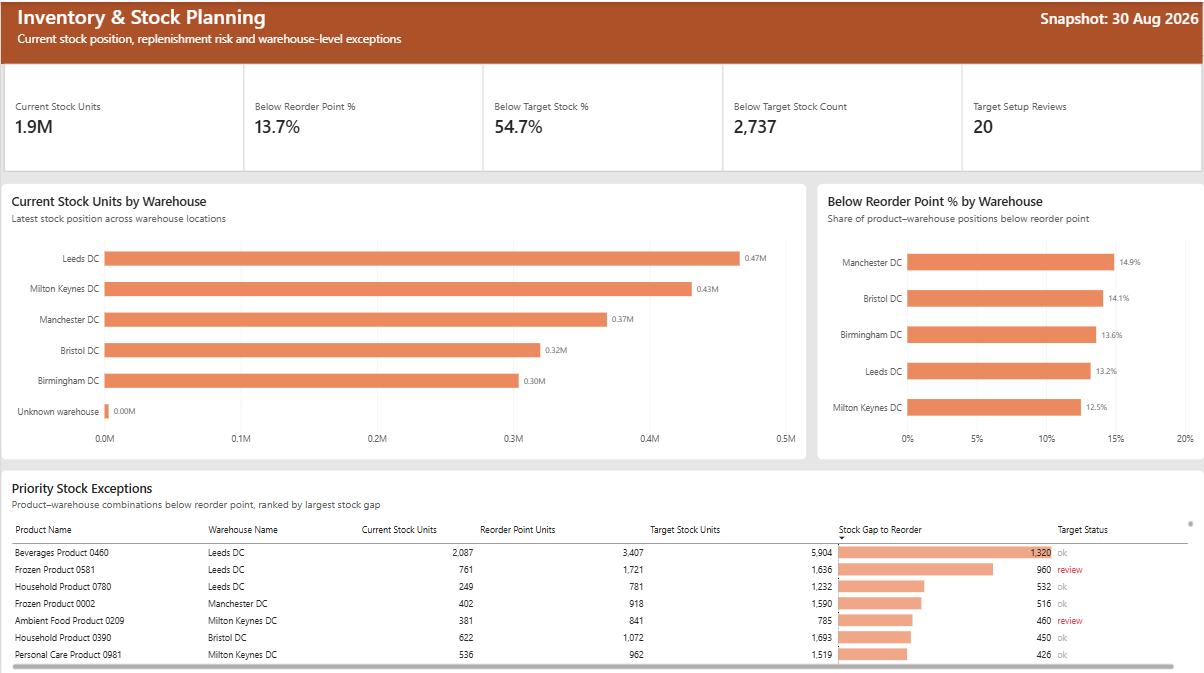

The dashboard page shown, as its layout file describes it:
{"tool":"powerbi","page":{"name":"Inventory Overview","canvas":[1920,1080],"ordinal":0},"visuals":[{"type":"shape","box":[0,0,1911.3,98.9],"z":0},{"type":"shape","title":"Inventory & Stock Planning","box":[26.4,0,1893.6,98.4],"z":1000},{"type":"cardVisual","fields":{"Data":["_Measures.Current Stock Units","_Measures.Below Reorder Point %","_Measures.Below Target Stock %","_Measures.Below Target Stock Count","_Measures.Target Setup Review Count"]},"box":[4.8,98.4,1910.4,172.8],"z":2000},{"type":"textbox","box":[100.8,364.8,300,36],"z":3000},{"type":"textbox","title":"Snapshot: 30 Aug 2026","box":[1652.4,8.7,267.6,49.5],"z":4000},{"type":"clusteredBarChart","title":"Current Stock Units by Warehouse","fields":{"Category":["warehouses.warehouse_name"],"Y":["_Measures.Current Stock Units"]},"box":[0,288,1281.6,439.2],"z":5000},{"type":"clusteredBarChart","title":"Below Reorder Point % by Warehouse","fields":{"Category":["warehouses.warehouse_name"],"Y":["_Measures.Below Reorder Point %"]},"box":[1298.4,288,616.8,439.2],"z":6000},{"type":"tableEx","title":"Priority Stock Exceptions","fields":{"Values":["products.product_name","warehouses.warehouse_name","_Measures.Current Stock Units","Sum(stock_targets.reorder_point_units)","Sum(stock_targets.target_stock_units)","_Measures.Stock Gap to Reorder","stock_targets.stock_target_status"]},"box":[0,744.7,1914.2,334.5],"z":7000}]}

Visuals, with their boxes in screenshot pixels (x1, y1, x2, y2), scaled from the page's 1920x1080 canvas onto the 1204x673 screenshot:
shape: box(0, 0, 1199, 62)
"Inventory & Stock Planning" shape: box(17, 0, 1203, 61)
cardVisual - _Measures.Current Stock Units x _Measures.Below Reorder Point %: box(3, 61, 1201, 169)
textbox: box(63, 227, 251, 250)
"Snapshot: 30 Aug 2026" textbox: box(1036, 5, 1203, 36)
"Current Stock Units by Warehouse" clusteredBarChart: box(0, 179, 804, 453)
"Below Reorder Point % by Warehouse" clusteredBarChart: box(814, 179, 1201, 453)
"Priority Stock Exceptions" tableEx: box(0, 464, 1200, 672)
